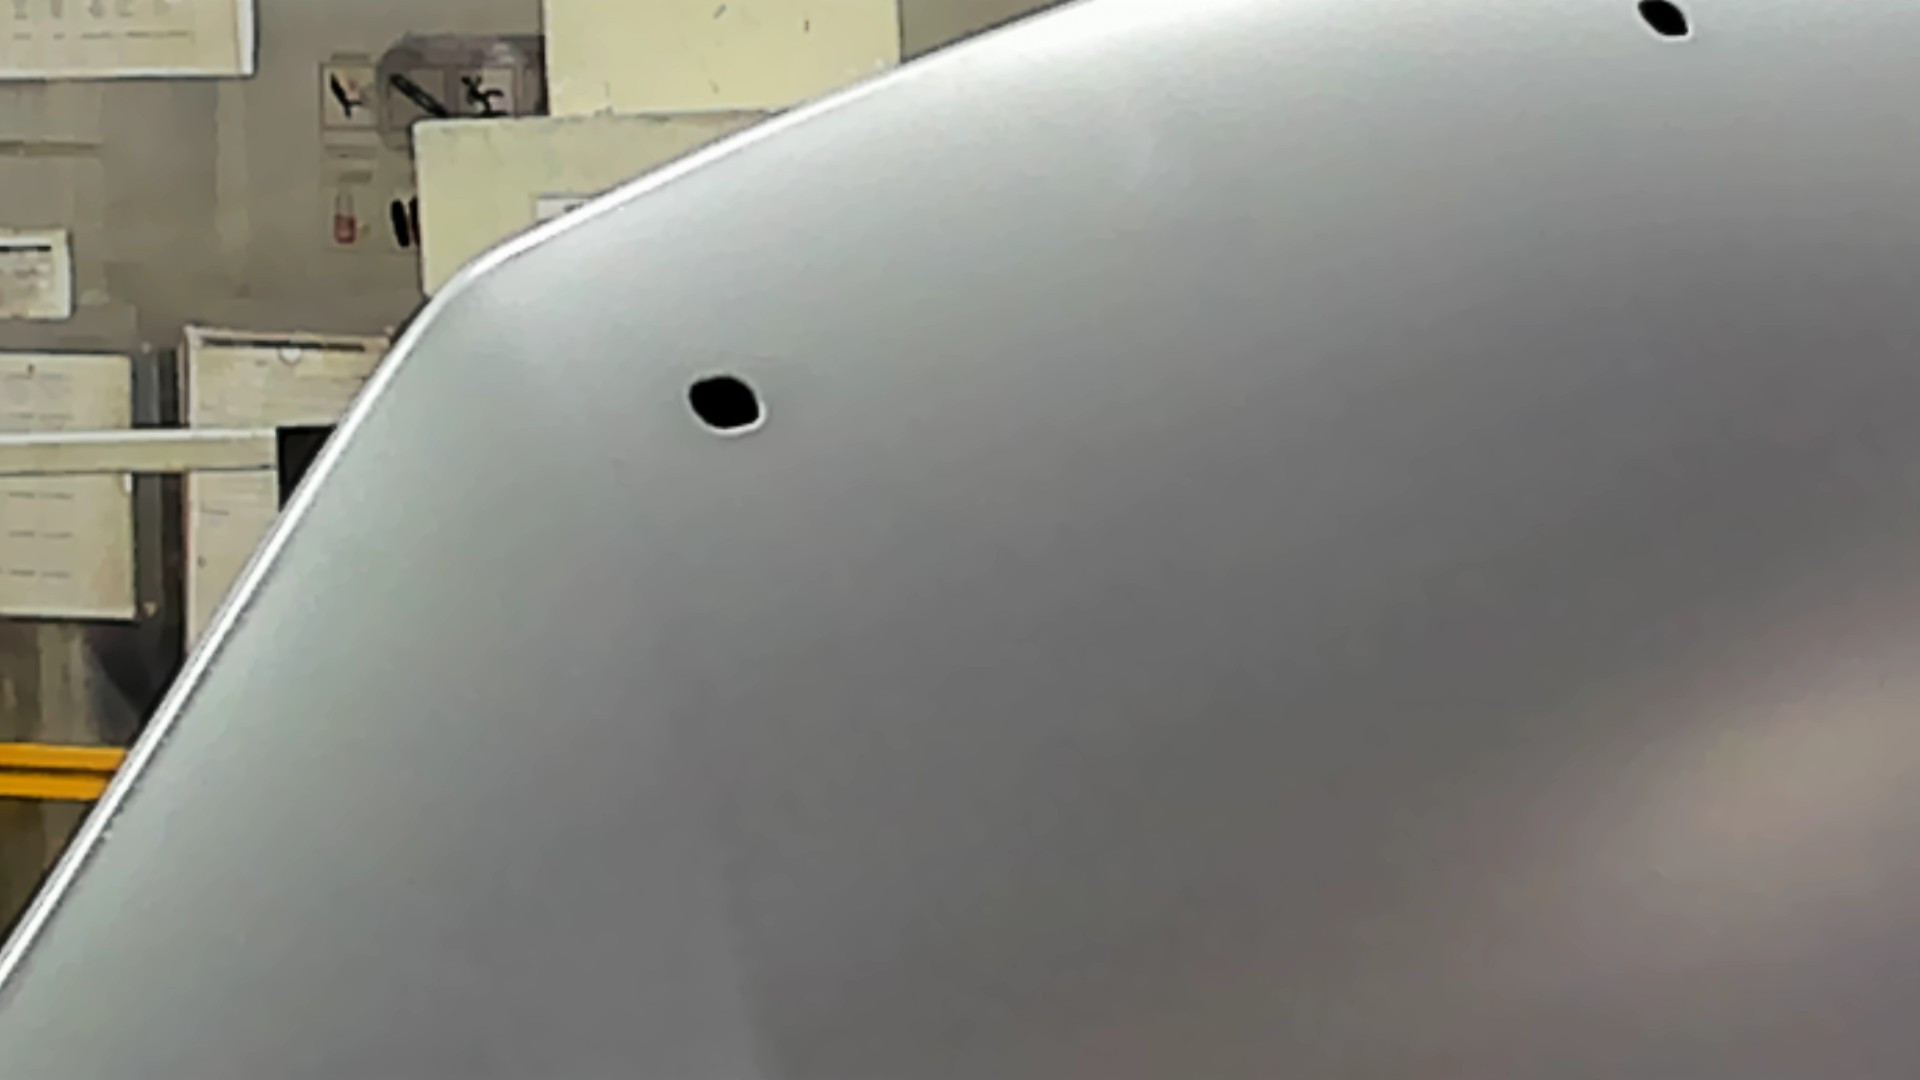amorfo: (686, 369, 771, 442), (1630, 1, 1696, 44)
